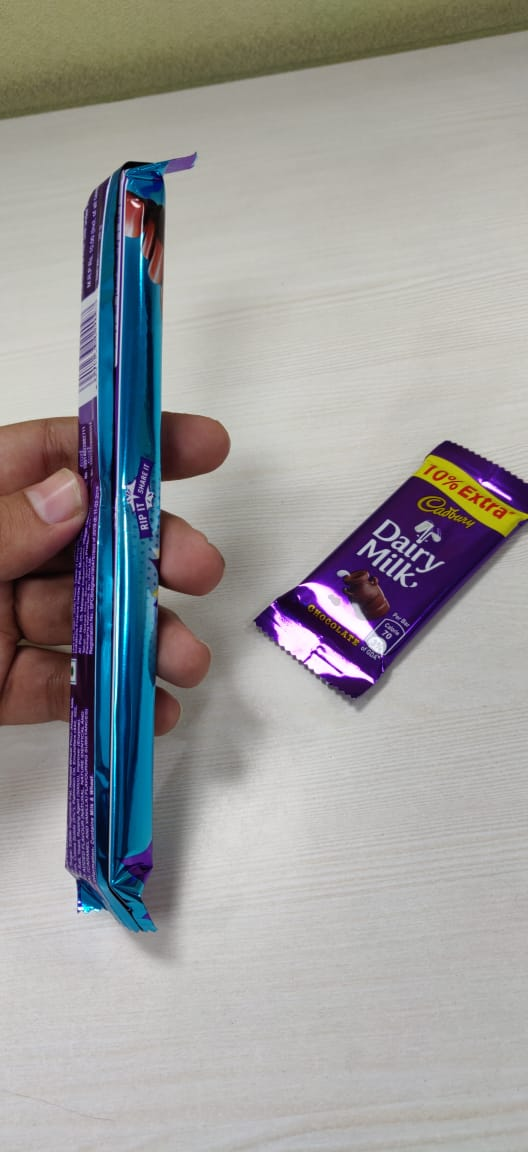dairy milk: (245, 388, 528, 744)
perk: (54, 148, 215, 958)
